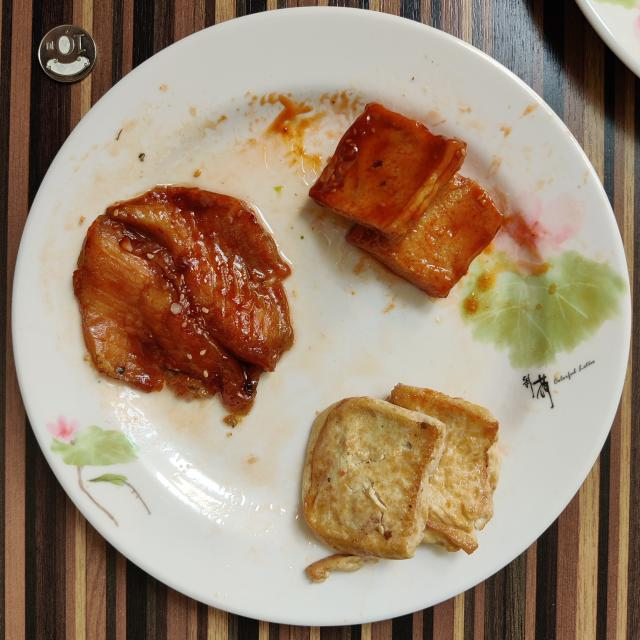Kabayaki sea bream fillet: (74, 186, 294, 414)
coin: (39, 25, 96, 82)
creamy tofu: (309, 102, 502, 298)
